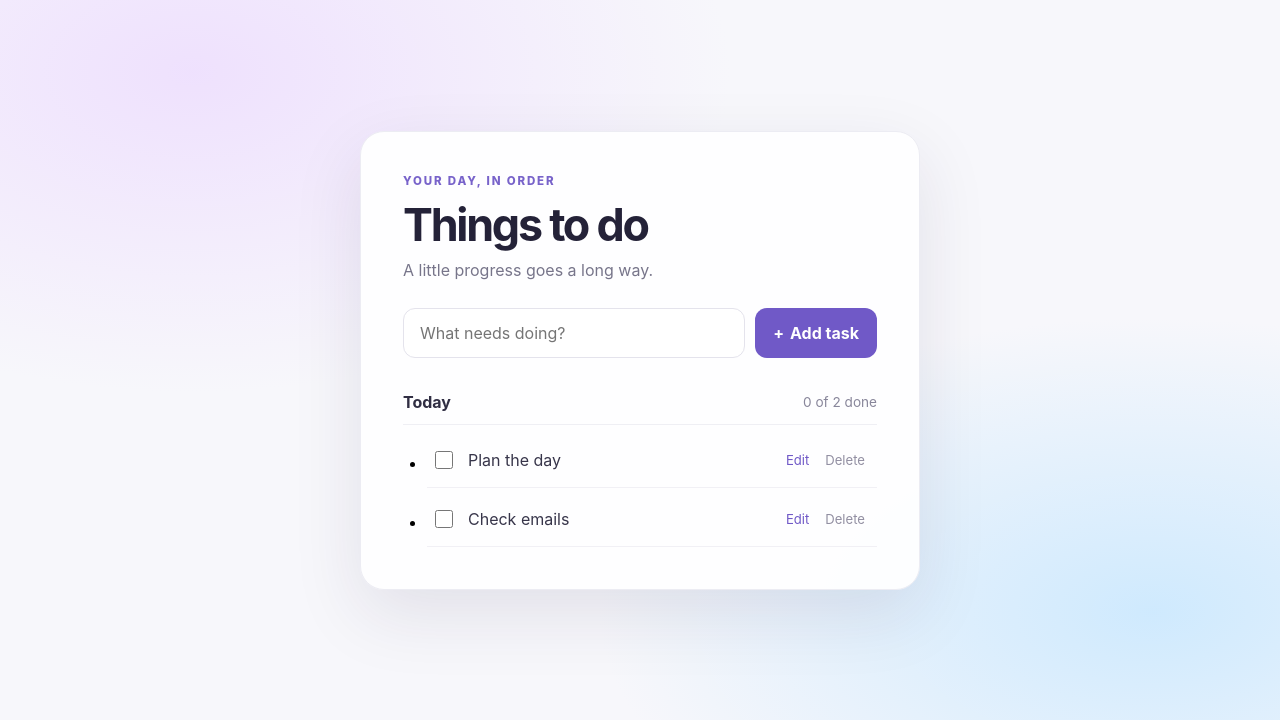
edits a task without adding a duplicate
This screenshot has width=1280, height=720.
Click the button "Edit" in the row of "Plan the day" at (798, 460), box top-left (778, 446), bottom-right (817, 474)
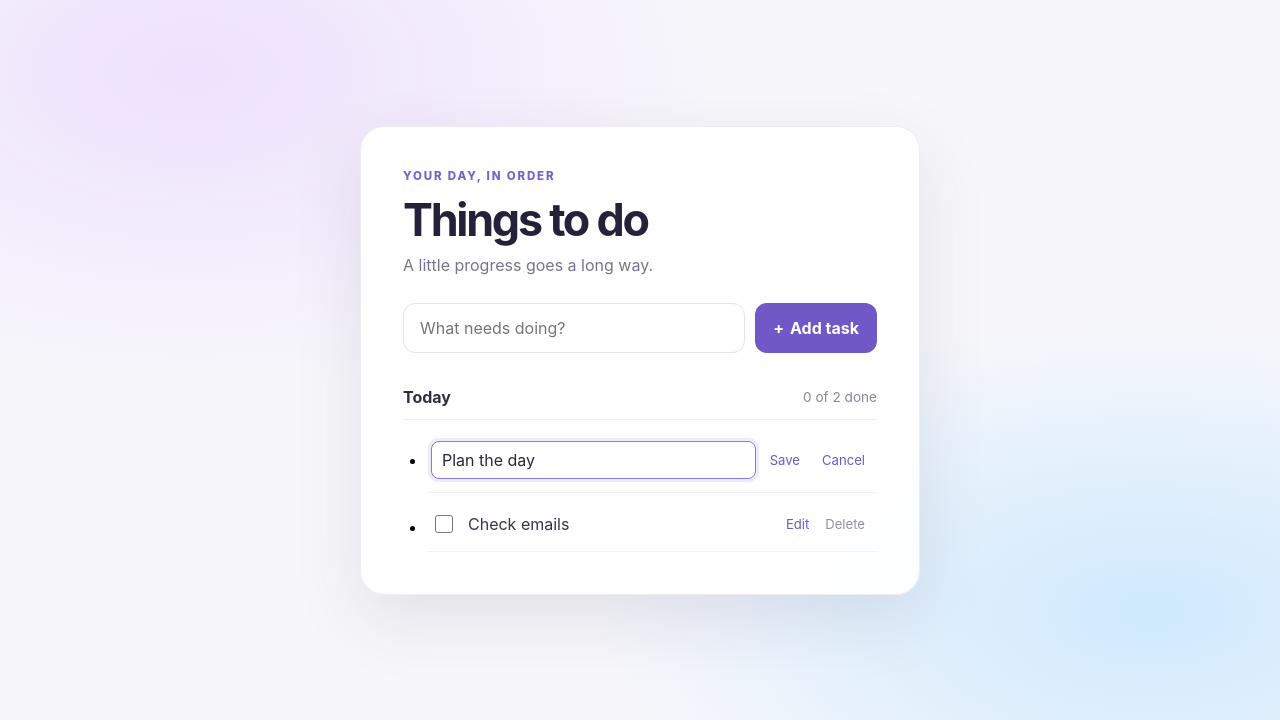
Check: the field named "Edit Plan the day" holds "Plan the day"
Replace the text in the field named "Edit Plan the day" with "Plan the week" at (593, 460), box top-left (431, 440), bottom-right (756, 478)
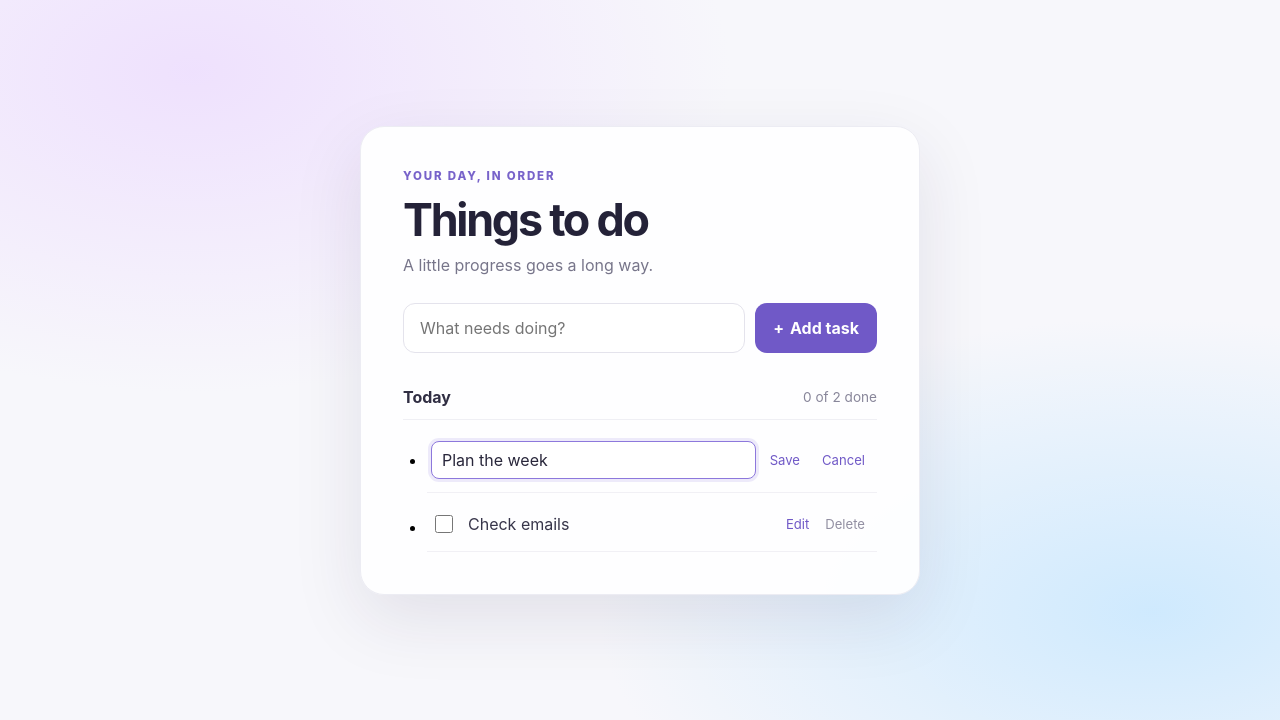
Click the button "Save" at (785, 460), box top-left (762, 446), bottom-right (808, 474)
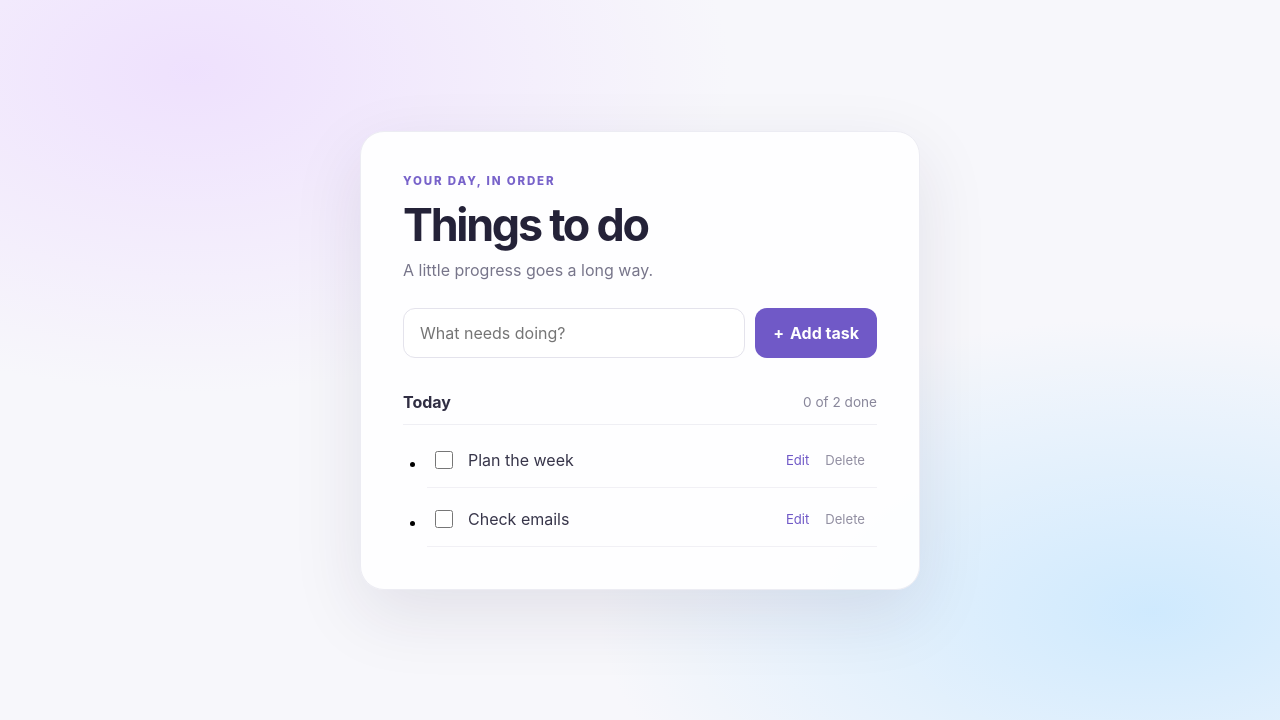
Check: the text "Plan the day" is not shown
Check: the text "Plan the week" is shown, box top-left (468, 450), bottom-right (574, 470)
